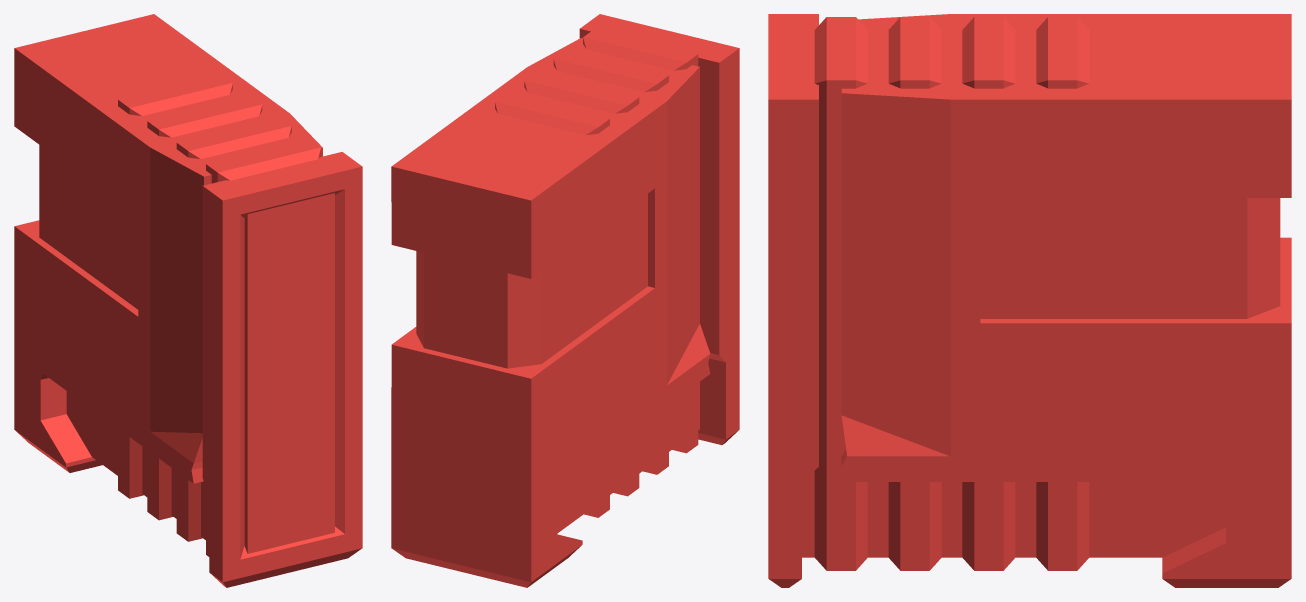
Rendered from part_magazine_03.fbx.
The picture shows the model from 3 angles, left to right: view 1: azimuth 30°, elevation 25°; view 2: azimuth 150°, elevation 25°; view 3: azimuth 270°, elevation 25°; orthographic projection. The views are drawn at different scales.
Visible parts, largest first — view 1: part_magazine_03; view 2: part_magazine_03; view 3: part_magazine_03.
Boxes of the visible parts, x1,y1,x2,y2 form: part_magazine_03: (14,14,362,587); part_magazine_03: (391,14,739,587); part_magazine_03: (768,14,1291,587).
Bounding box in the file's own units: 3.6 × 9.85 × 9.3.
